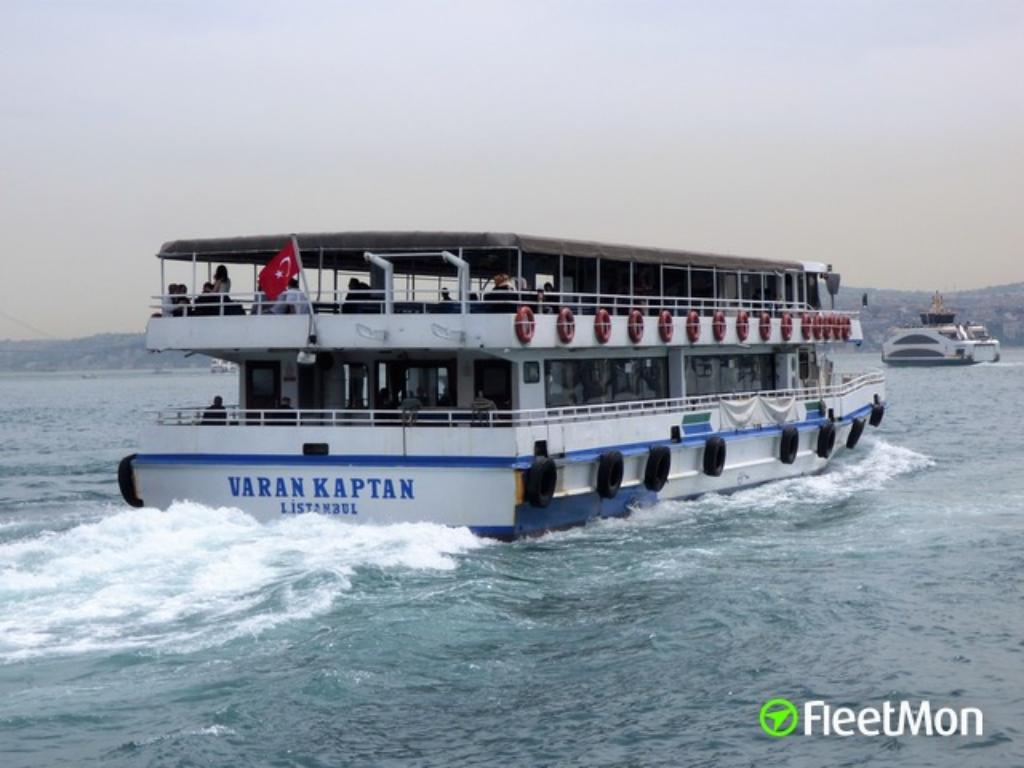PassengerShip: (104, 223, 892, 551), (873, 293, 1005, 367)
